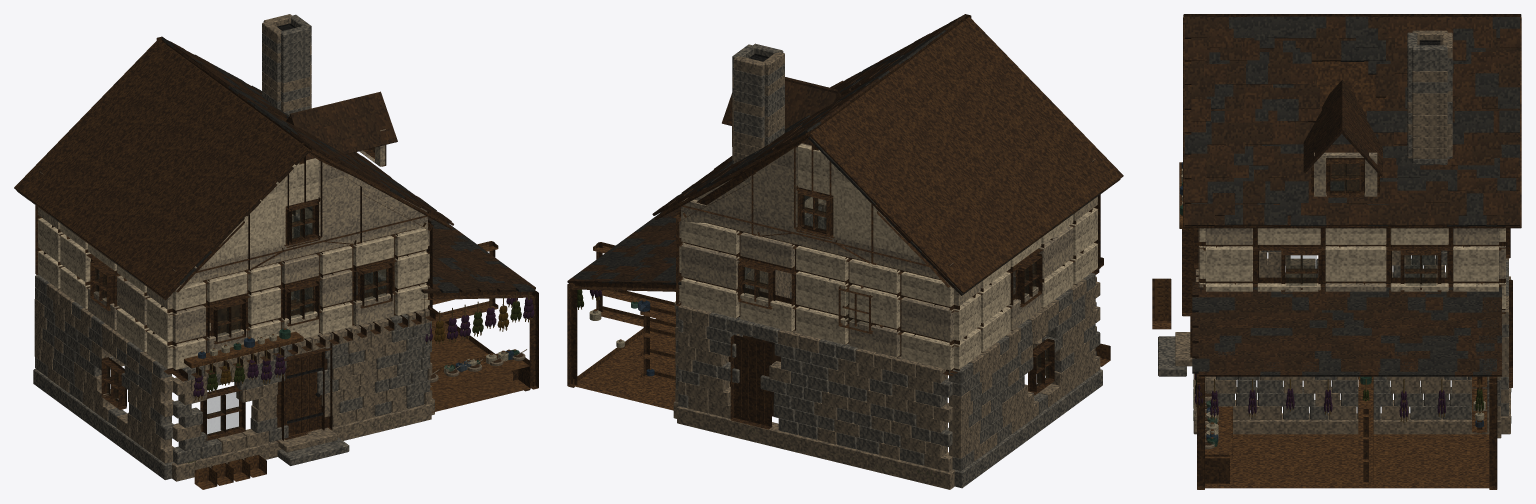
The model's file is medieval_apothecary_house_3d_runtime.glb.
The picture shows the model from 3 angles, left to right: view 1: azimuth 30°, elevation 25°; view 2: azimuth 150°, elevation 25°; view 3: azimuth 270°, elevation 25°; orthographic projection. The views are drawn at different scales.
Visible parts, largest first — view 1: STATIC_ROOF_03_MAT_APOTHECARY_OAK_DARK, STATIC_EXTERIOR_00_MAT_APOTHECARY_STONE_WARM, STATIC_EXTERIOR_01_MAT_APOTHECARY_STONE_DARK, STATIC_EXTERIOR_08_MAT_APOTHECARY_PLASTER_AGED, STATIC_EXTERIOR_02_MAT_APOTHECARY_OAK_DARK, STATIC_EXTERIOR_17_MAT_APOTHECARY_OAK_MID, STATIC_ROOF_10_MAT_APOTHECARY_PLASTER_WORN, STATIC_ROOF_13_MAT_APOTHECARY_SHINGLE_A, STATIC_EXTERIOR_09_MAT_APOTHECARY_PLASTER_WORN, STATIC_ROOF_15_MAT_APOTHECARY_SHINGLE_B, STATIC_ROOF_11_MAT_APOTHECARY_PLASTER_AGED, STATIC_EXTERIOR_12_MAT_APOTHECARY_GLASS_TRANSPARENT (+9 smaller); view 2: STATIC_ROOF_03_MAT_APOTHECARY_OAK_DARK, STATIC_EXTERIOR_00_MAT_APOTHECARY_STONE_WARM, STATIC_EXTERIOR_01_MAT_APOTHECARY_STONE_DARK, STATIC_EXTERIOR_08_MAT_APOTHECARY_PLASTER_AGED, STATIC_EXTERIOR_02_MAT_APOTHECARY_OAK_DARK, STATIC_EXTERIOR_09_MAT_APOTHECARY_PLASTER_WORN, STATIC_ROOF_10_MAT_APOTHECARY_PLASTER_WORN, STATIC_EXTERIOR_17_MAT_APOTHECARY_OAK_MID, STATIC_ROOF_13_MAT_APOTHECARY_SHINGLE_A, STATIC_ROOF_15_MAT_APOTHECARY_SHINGLE_B, STATIC_ROOF_14_MAT_APOTHECARY_SHINGLE_C, STATIC_ROOF_11_MAT_APOTHECARY_PLASTER_AGED (+4 smaller); view 3: STATIC_ROOF_13_MAT_APOTHECARY_SHINGLE_A, STATIC_ROOF_15_MAT_APOTHECARY_SHINGLE_B, STATIC_ROOF_14_MAT_APOTHECARY_SHINGLE_C, STATIC_EXTERIOR_17_MAT_APOTHECARY_OAK_MID, STATIC_EXTERIOR_00_MAT_APOTHECARY_STONE_WARM, STATIC_EXTERIOR_08_MAT_APOTHECARY_PLASTER_AGED, STATIC_EXTERIOR_02_MAT_APOTHECARY_OAK_DARK, STATIC_EXTERIOR_01_MAT_APOTHECARY_STONE_DARK, STATIC_ROOF_03_MAT_APOTHECARY_OAK_DARK, STATIC_ROOF_05_MAT_APOTHECARY_STONE_WARM, STATIC_ROOF_04_MAT_APOTHECARY_STONE_DARK, STATIC_EXTERIOR_12_MAT_APOTHECARY_GLASS_TRANSPARENT (+6 smaller).
Boxes of the visible parts, <box> form: STATIC_ROOF_03_MAT_APOTHECARY_OAK_DARK: <box>14,36,452,297</box>; STATIC_EXTERIOR_00_MAT_APOTHECARY_STONE_WARM: <box>34,212,526,481</box>; STATIC_EXTERIOR_01_MAT_APOTHECARY_STONE_DARK: <box>33,213,431,479</box>; STATIC_EXTERIOR_08_MAT_APOTHECARY_PLASTER_AGED: <box>38,207,429,369</box>; STATIC_EXTERIOR_02_MAT_APOTHECARY_OAK_DARK: <box>35,147,538,442</box>; STATIC_EXTERIOR_17_MAT_APOTHECARY_OAK_MID: <box>184,241,533,489</box>; STATIC_ROOF_10_MAT_APOTHECARY_PLASTER_WORN: <box>40,129,427,286</box>; STATIC_ROOF_13_MAT_APOTHECARY_SHINGLE_A: <box>45,51,526,296</box>; STATIC_EXTERIOR_09_MAT_APOTHECARY_PLASTER_WORN: <box>38,207,429,353</box>; STATIC_ROOF_15_MAT_APOTHECARY_SHINGLE_B: <box>17,41,535,300</box>; STATIC_ROOF_11_MAT_APOTHECARY_PLASTER_AGED: <box>174,158,318,291</box>; STATIC_EXTERIOR_12_MAT_APOTHECARY_GLASS_TRANSPARENT: <box>95,148,386,434</box>; STATIC_ROOF_03_MAT_APOTHECARY_OAK_DARK: <box>654,14,1123,293</box>; STATIC_EXTERIOR_00_MAT_APOTHECARY_STONE_WARM: <box>673,201,1100,489</box>; STATIC_EXTERIOR_01_MAT_APOTHECARY_STONE_DARK: <box>675,206,1102,488</box>; STATIC_EXTERIOR_08_MAT_APOTHECARY_PLASTER_AGED: <box>679,197,1097,370</box>; STATIC_EXTERIOR_02_MAT_APOTHECARY_OAK_DARK: <box>567,189,1103,395</box>; STATIC_EXTERIOR_09_MAT_APOTHECARY_PLASTER_WORN: <box>679,143,1097,357</box>; STATIC_ROOF_10_MAT_APOTHECARY_PLASTER_WORN: <box>681,144,1095,280</box>; STATIC_EXTERIOR_17_MAT_APOTHECARY_OAK_MID: <box>572,242,1110,410</box>; STATIC_ROOF_13_MAT_APOTHECARY_SHINGLE_A: <box>582,14,1117,288</box>; STATIC_ROOF_15_MAT_APOTHECARY_SHINGLE_B: <box>567,24,1120,295</box>; STATIC_ROOF_14_MAT_APOTHECARY_SHINGLE_C: <box>572,30,1100,295</box>; STATIC_ROOF_11_MAT_APOTHECARY_PLASTER_AGED: <box>798,144,950,287</box>; STATIC_ROOF_13_MAT_APOTHECARY_SHINGLE_A: <box>1184,16,1519,371</box>; STATIC_ROOF_15_MAT_APOTHECARY_SHINGLE_B: <box>1184,16,1519,376</box>; STATIC_ROOF_14_MAT_APOTHECARY_SHINGLE_C: <box>1184,16,1519,376</box>; STATIC_EXTERIOR_17_MAT_APOTHECARY_OAK_MID: <box>1152,162,1493,488</box>; STATIC_EXTERIOR_00_MAT_APOTHECARY_STONE_WARM: <box>1175,250,1510,449</box>; STATIC_EXTERIOR_08_MAT_APOTHECARY_PLASTER_AGED: <box>1198,228,1505,308</box>; STATIC_EXTERIOR_02_MAT_APOTHECARY_OAK_DARK: <box>1182,158,1510,489</box>; STATIC_EXTERIOR_01_MAT_APOTHECARY_STONE_DARK: <box>1158,250,1508,419</box>; STATIC_ROOF_03_MAT_APOTHECARY_OAK_DARK: <box>1183,14,1521,228</box>; STATIC_ROOF_05_MAT_APOTHECARY_STONE_WARM: <box>1407,30,1452,158</box>; STATIC_ROOF_04_MAT_APOTHECARY_STONE_DARK: <box>1407,32,1452,164</box>; STATIC_EXTERIOR_12_MAT_APOTHECARY_GLASS_TRANSPARENT: <box>1286,164,1435,285</box>.
Bounding box in the file's own units: 11.93 × 9.09 × 8.18.
20 materials, 20 textured.
